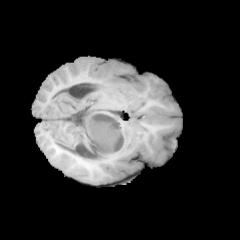glioma: (83, 110, 129, 157)
